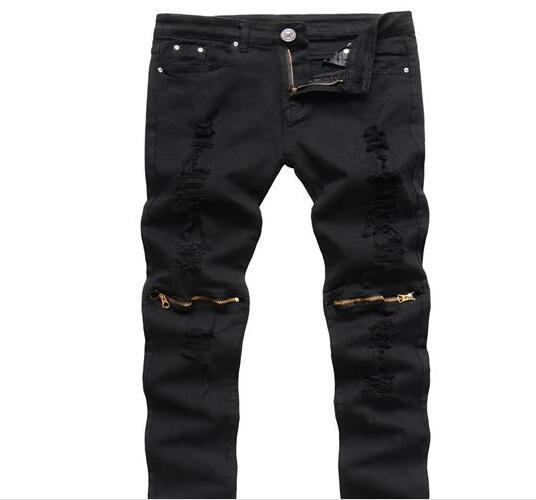jeans: (141, 9, 434, 500)
